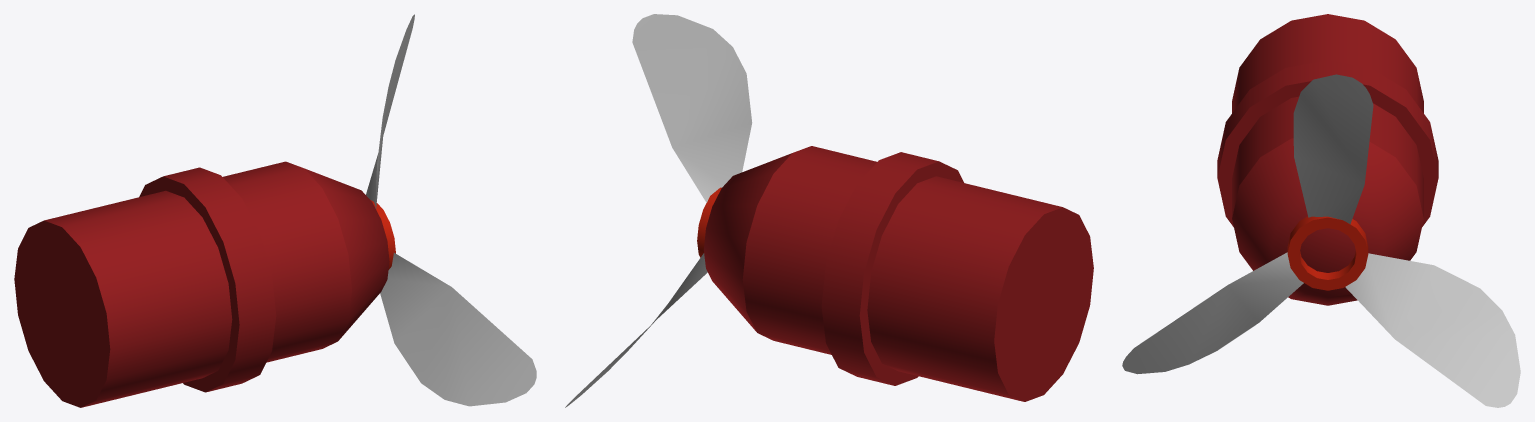
File: propeller_red.obj
3 views of the same model, side by side, from view 1: azimuth 30°, elevation 25°; view 2: azimuth 150°, elevation 25°; view 3: azimuth 270°, elevation 25° (orthographic). The views are drawn at different scales.
Visible parts, largest first — view 1: __, __.1, __.6; view 2: __, __.1, __.2, __.6; view 3: __, __.1, __.2, __.6.
Boxes of the visible parts, x1,y1,x2,y2 form: __: [14, 161, 536, 407]; __.1: [139, 14, 414, 392]; __.6: [370, 200, 395, 269]; __: [703, 146, 1093, 401]; __.1: [632, 14, 963, 385]; __.2: [565, 253, 707, 407]; __.6: [697, 187, 721, 257]; __: [1122, 14, 1423, 374]; __.1: [1217, 60, 1438, 227]; __.2: [1345, 253, 1520, 407]; __.6: [1287, 216, 1368, 290].
Size of the model in its own units: 222 by 185 by 205.
